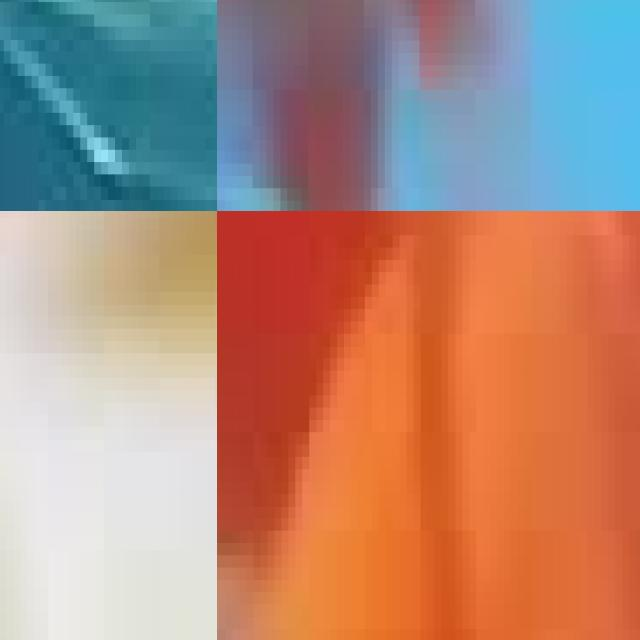fish: (217, 0, 640, 211), (0, 0, 217, 211)
